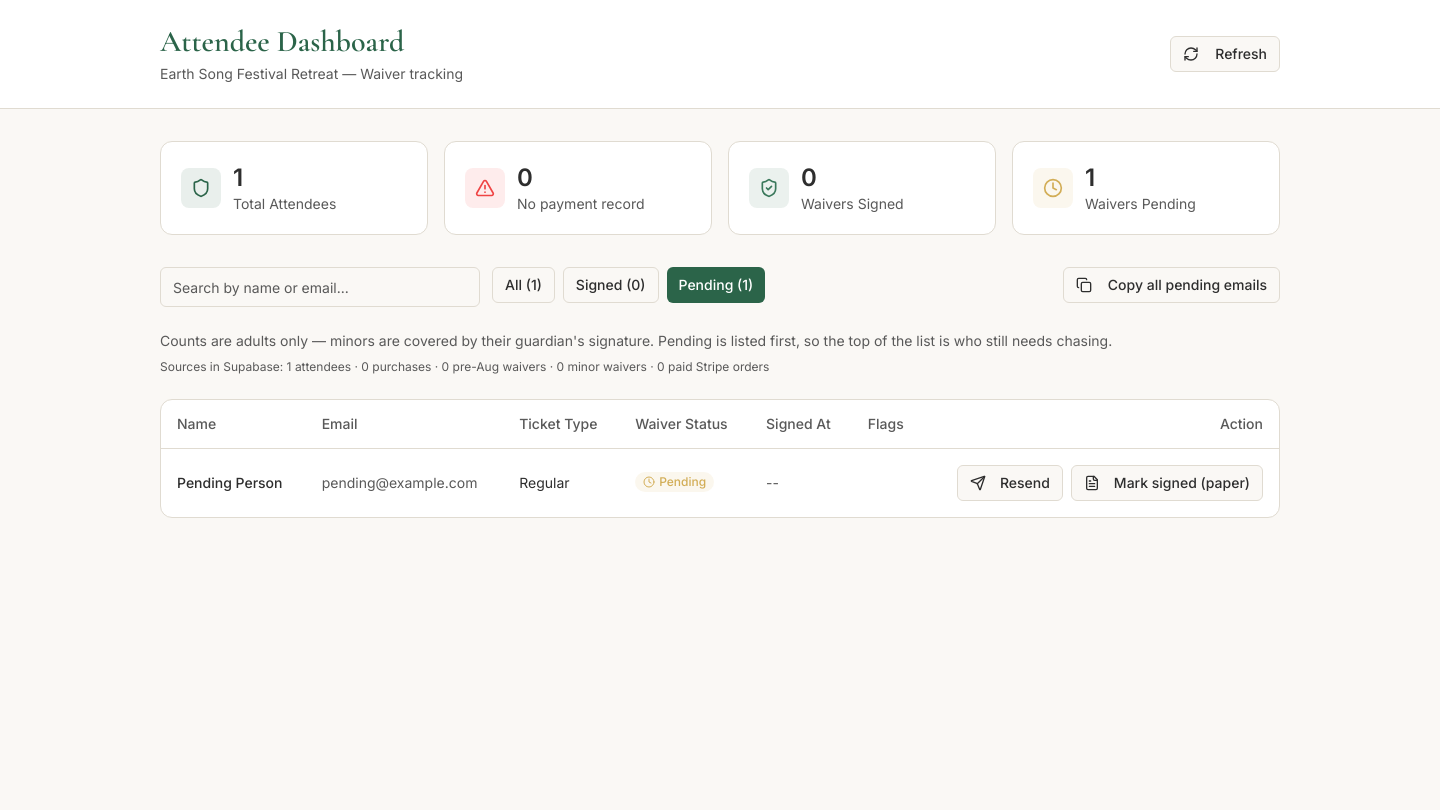
Scenario: confirming a paper mark › asks first, then sends the attendee id and the new status
Later steps or results of the test are not shown.
Click the button "all (1)".
click(523, 285)  # box [492,267,555,303]
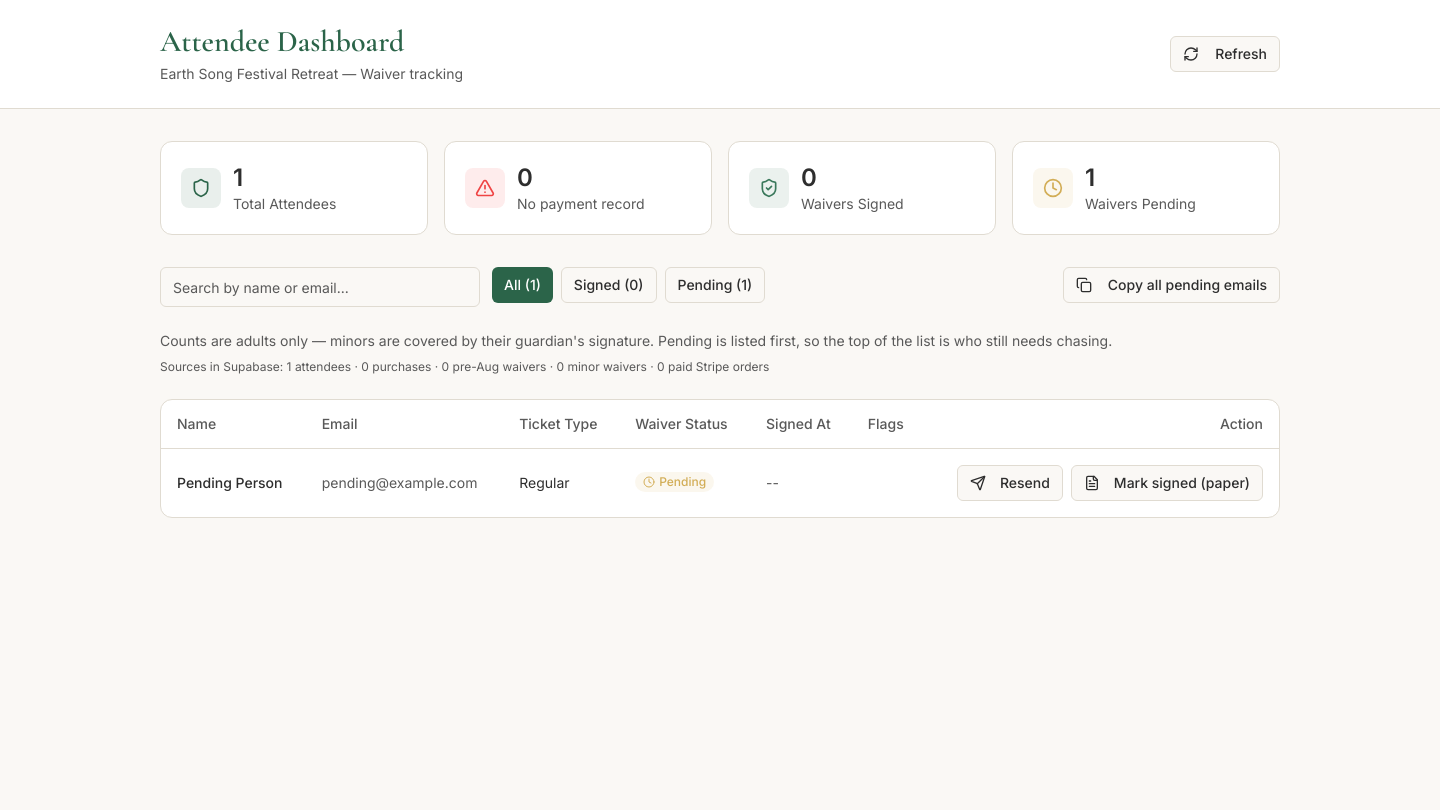
Click the button "Mark signed (paper)".
click(1167, 482)  # box [1071,464,1263,500]
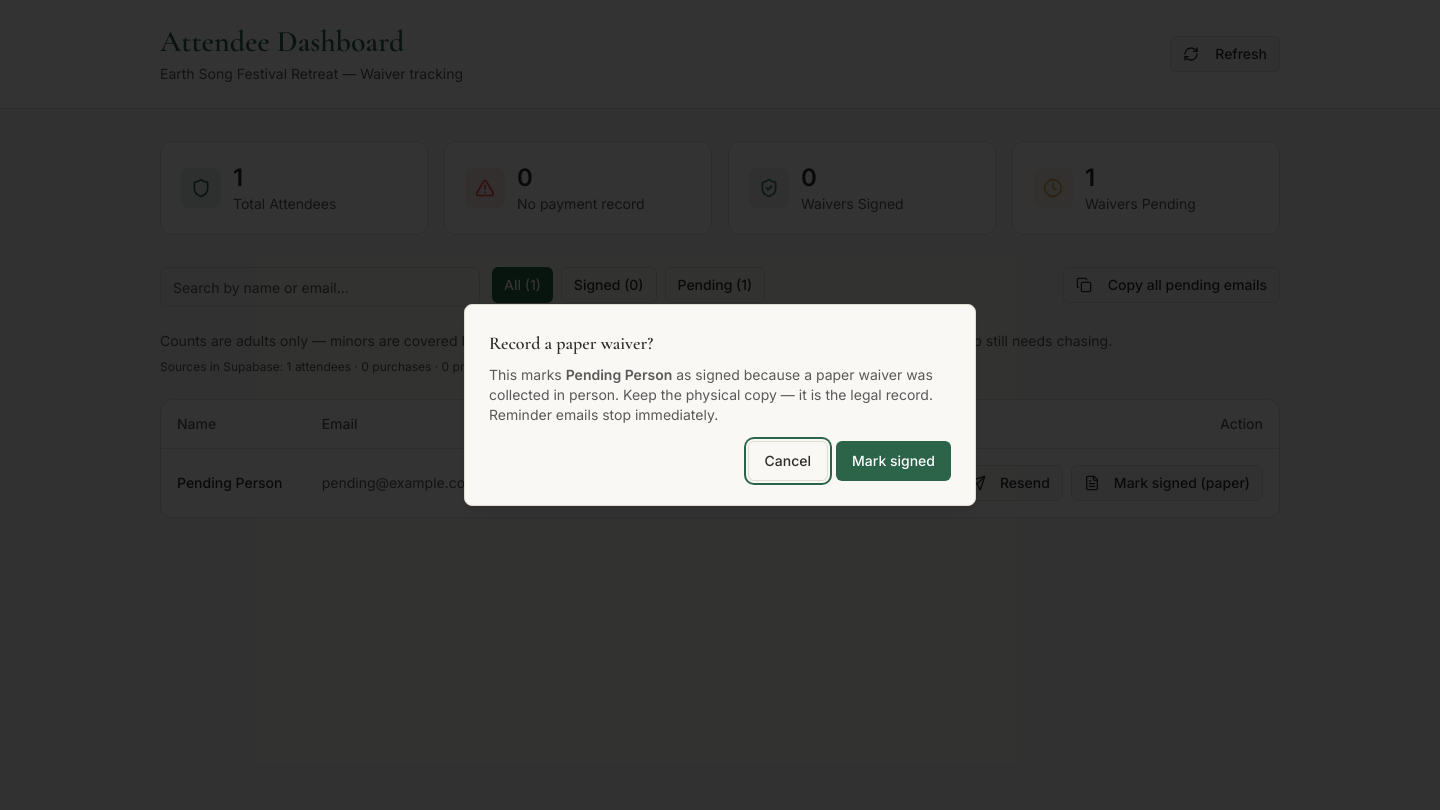
Result: the heading "Record a paper waiver?" is shown at [489,332,653,354]
